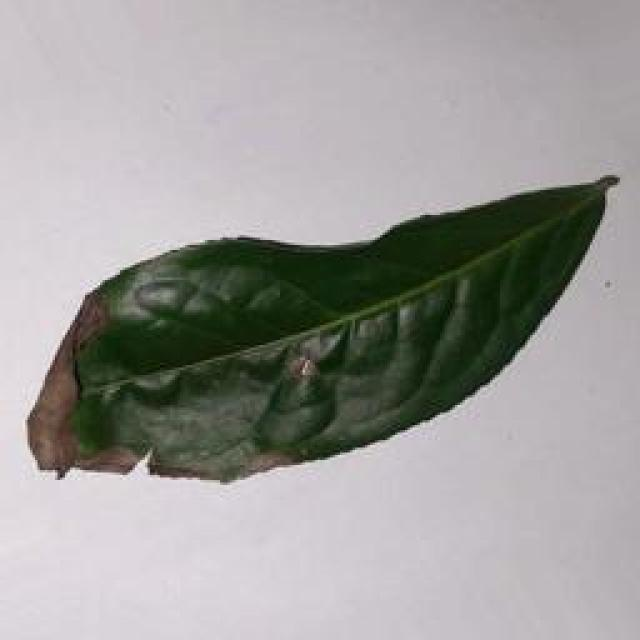Brown Blight: (17, 176, 632, 489)
